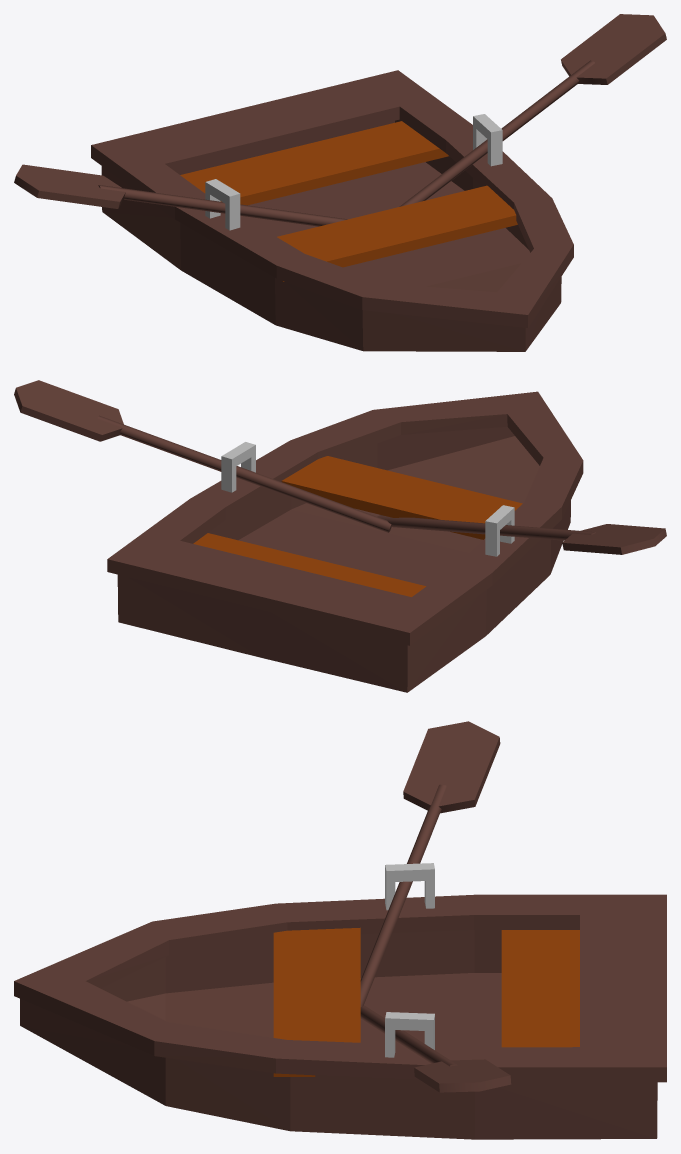
The model's file is Boat.FBX.
3 views of the same model, one above another, from view 1: azimuth 30°, elevation 25°; view 2: azimuth 150°, elevation 25°; view 3: azimuth 270°, elevation 25° (orthographic). The views are drawn at different scales.
Parts seen in each view (by area): view 1: Boat; view 2: Boat; view 3: Boat.
Boxes of the visible parts, box(x1,y1,x2,y2) form: Boat: box(14, 14, 666, 351); Boat: box(14, 380, 666, 692); Boat: box(14, 721, 666, 1139).
Bounding box in the file's own units: 5.16 × 1.06 × 3.92.
1 material, 1 textured.
